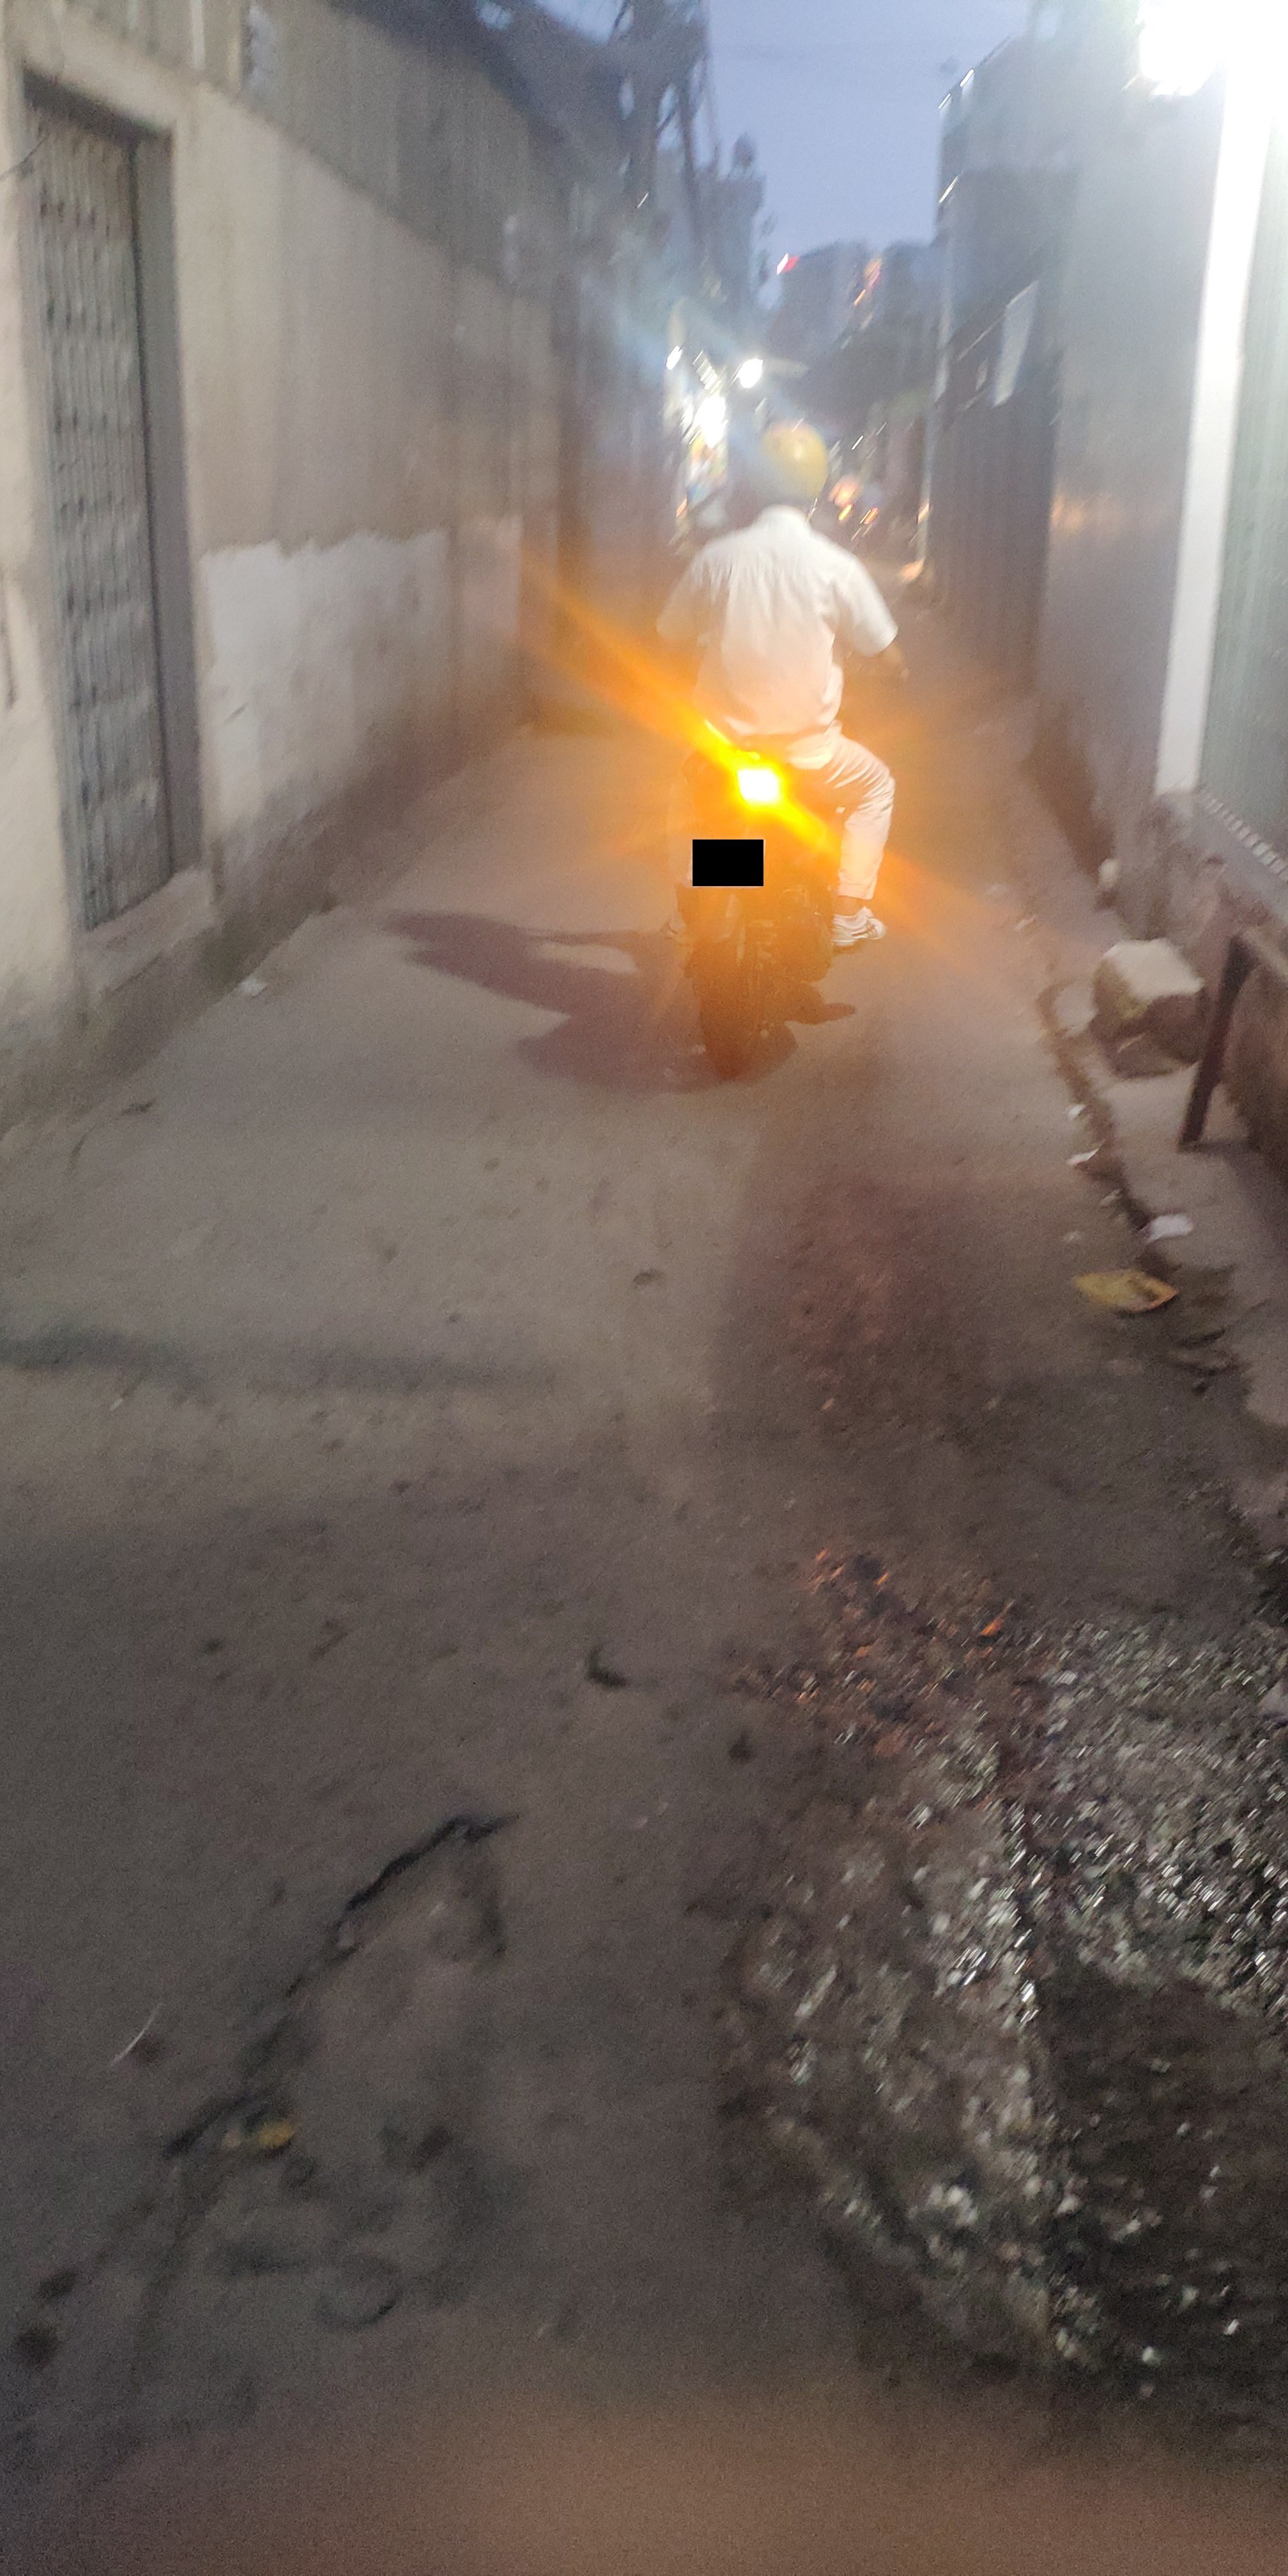hole: (130, 1779, 552, 2357)
